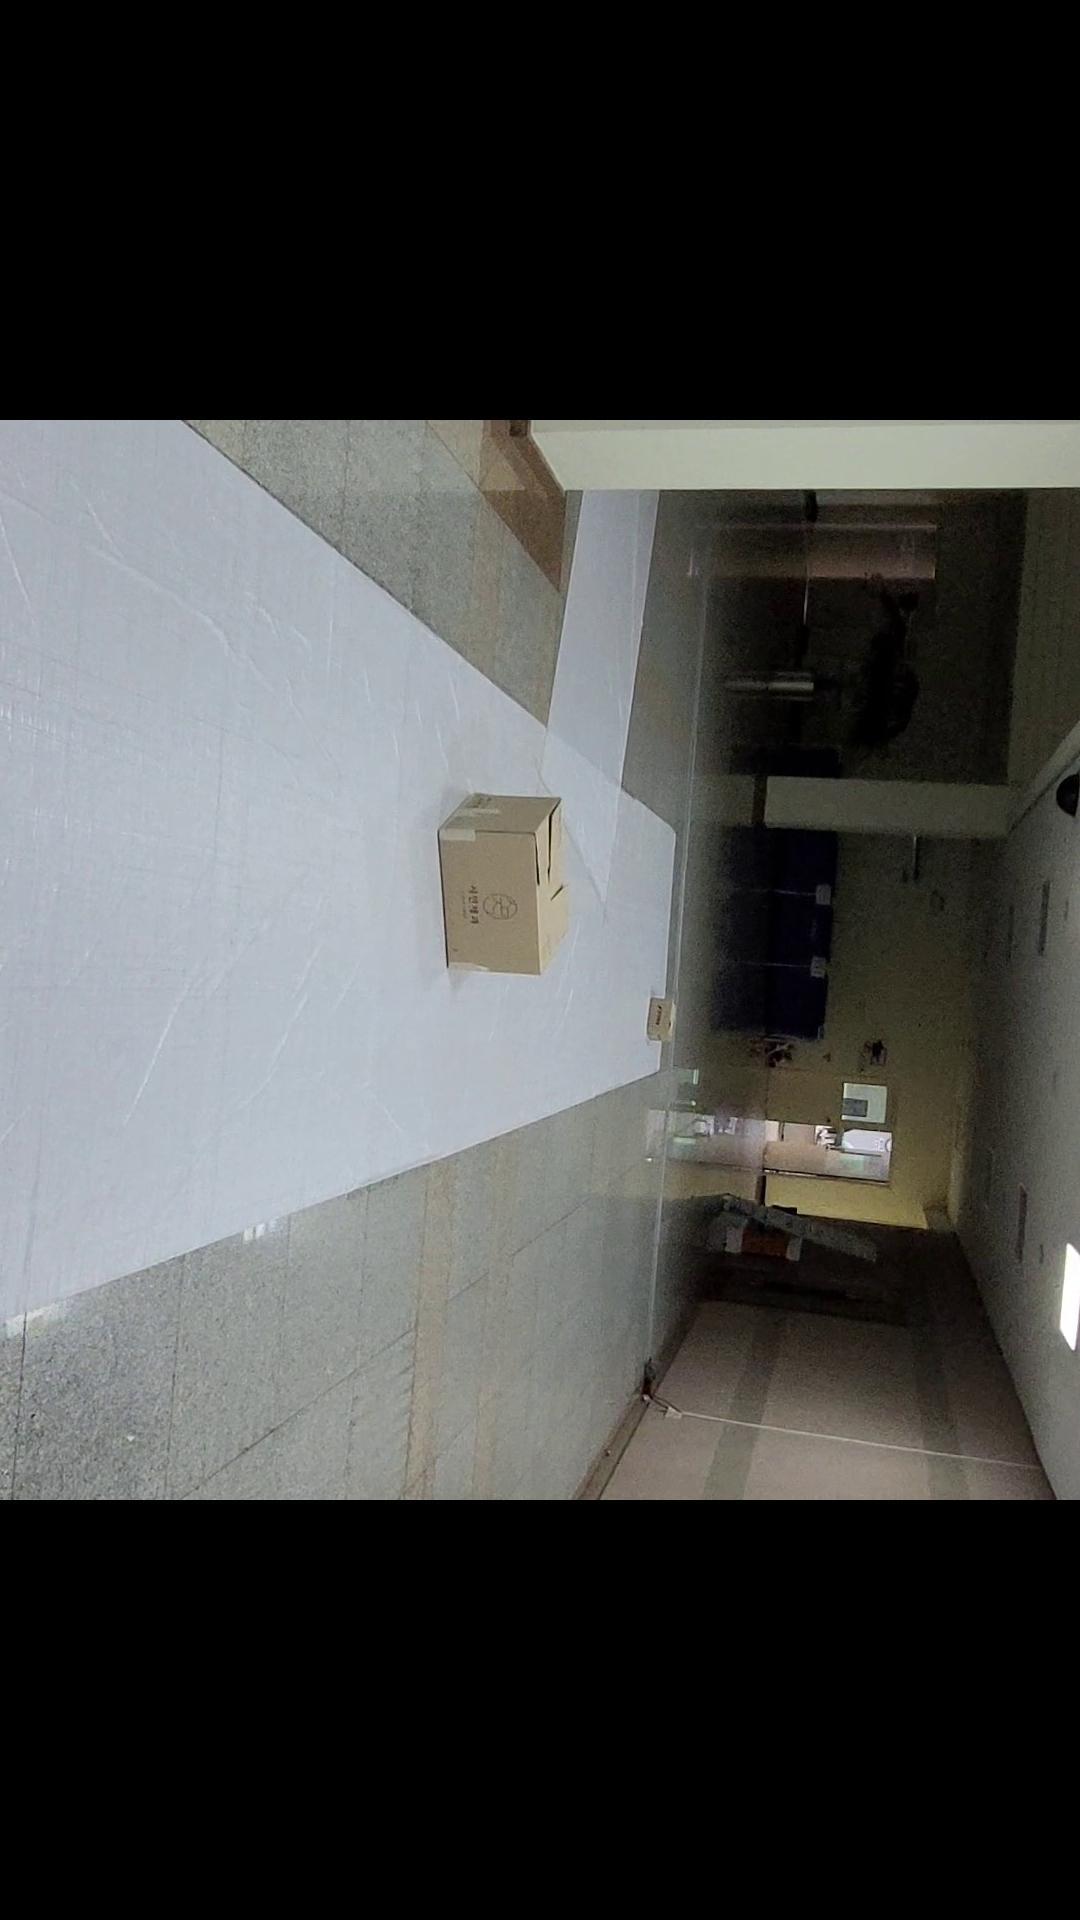Box: (396, 773, 605, 1005), (622, 978, 698, 1062)
